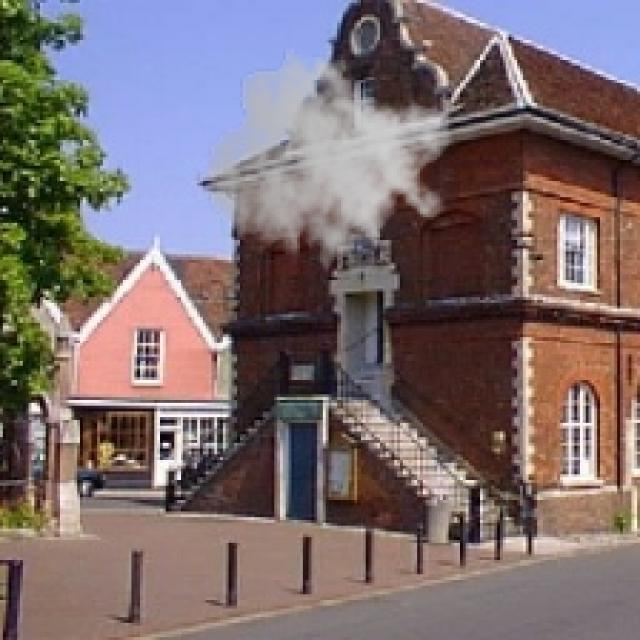Smoke: (206, 43, 454, 283)
